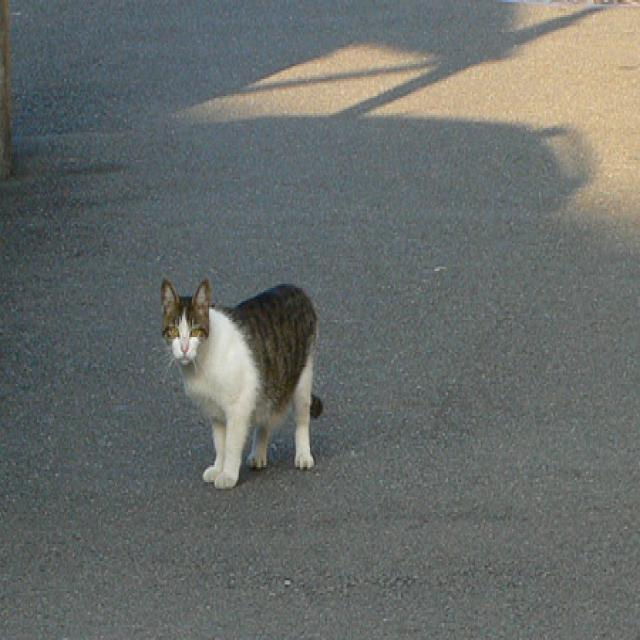left eye: (188, 324, 200, 337)
